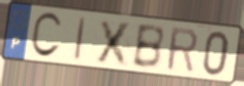0: (201, 29, 232, 78)
B: (130, 23, 166, 71)
C: (28, 11, 64, 61)
I: (72, 15, 88, 63)
R: (165, 26, 200, 75)
X: (93, 18, 135, 69)
